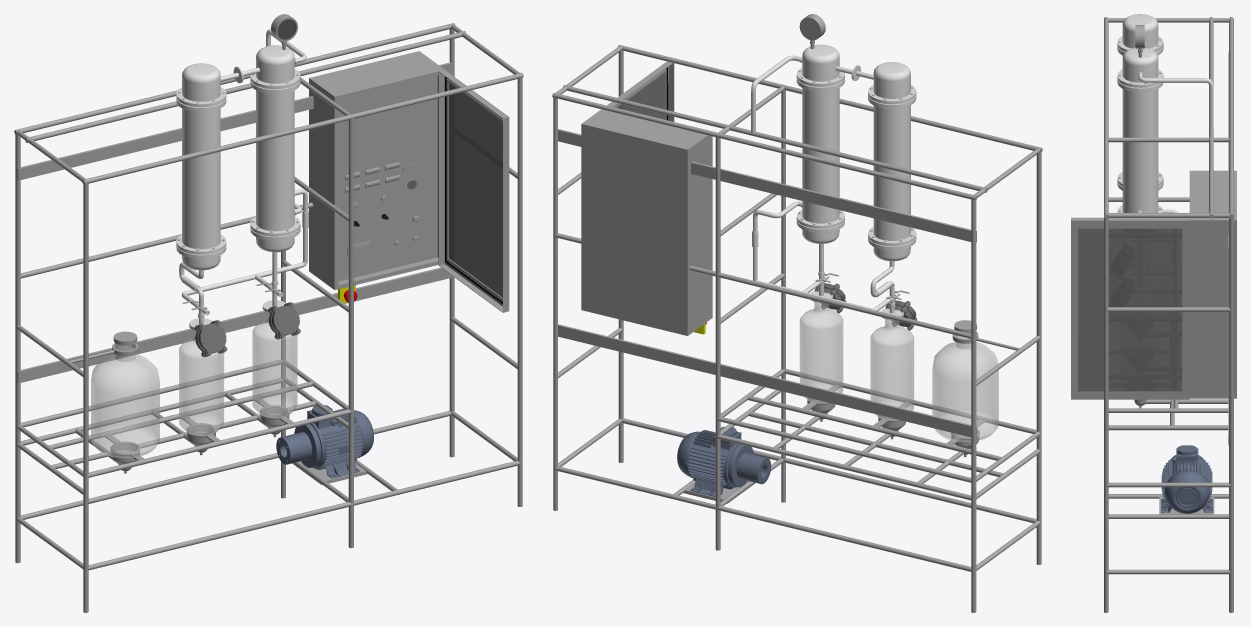
The model's file is Main machine v1.fbx.
3 renders of one model, left to right at view 1: azimuth 30°, elevation 25°; view 2: azimuth 150°, elevation 25°; view 3: azimuth 270°, elevation 25°, orthographic. The views are drawn at different scales.
Visible parts, largest first — view 1: polySurface811347, polySurface811432, polySurface811356, polySurface811391, pCylinder49, polySurface811355, polySurface811319, polySurface811313, polySurface811318, polySurface811336, polySurface811360, polySurface811332 (+16 smaller); view 2: polySurface811347, polySurface811432, polySurface811391, pCylinder49, polySurface811319, polySurface811313, polySurface811318, polySurface811359, polySurface811320, polySurface811354, polySurface811360, polySurface811407 (+16 smaller); view 3: polySurface811356, polySurface811347, pCylinder49, polySurface811355, polySurface811313, polySurface811324, polySurface811332, polySurface811391, polySurface811354, polySurface811336, polySurface811407, polySurface811348 (+12 smaller).
Part boxes in pixels (x1,y1,x2,y2): polySurface811347: (309, 51, 444, 289); polySurface811432: (91, 312, 297, 457); polySurface811356: (448, 83, 502, 297); polySurface811391: (176, 63, 226, 330); pCylinder49: (250, 45, 300, 252); polySurface811355: (438, 70, 509, 312); polySurface811319: (17, 267, 452, 383); polySurface811313: (276, 405, 373, 478); polySurface811318: (17, 62, 452, 180); polySurface811336: (82, 72, 523, 184); polySurface811360: (83, 183, 88, 612); polySurface811332: (517, 77, 522, 506); polySurface811347: (581, 109, 712, 335); polySurface811432: (800, 302, 998, 441); polySurface811391: (868, 62, 916, 319); pCylinder49: (796, 44, 844, 243); polySurface811319: (558, 324, 976, 437); polySurface811313: (677, 426, 771, 496); polySurface811318: (558, 129, 976, 242); polySurface811359: (971, 199, 976, 612); polySurface811320: (715, 136, 720, 550); polySurface811354: (552, 92, 977, 200); polySurface811360: (1036, 152, 1041, 564); polySurface811407: (563, 85, 987, 192); polySurface811356: (1078, 228, 1182, 391); polySurface811347: (1189, 170, 1236, 398); pCylinder49: (1117, 47, 1163, 212); polySurface811355: (1071, 217, 1189, 399); polySurface811313: (1161, 445, 1212, 513); polySurface811324: (1229, 217, 1233, 612); polySurface811332: (1104, 217, 1108, 612); polySurface811391: (1117, 14, 1177, 212); polySurface811354: (1229, 17, 1233, 218); polySurface811336: (1104, 17, 1108, 218); polySurface811407: (1209, 17, 1213, 218); polySurface811348: (1106, 482, 1230, 487).
Size of the model in its own units: 1.91 by 2.21 by 0.68.
